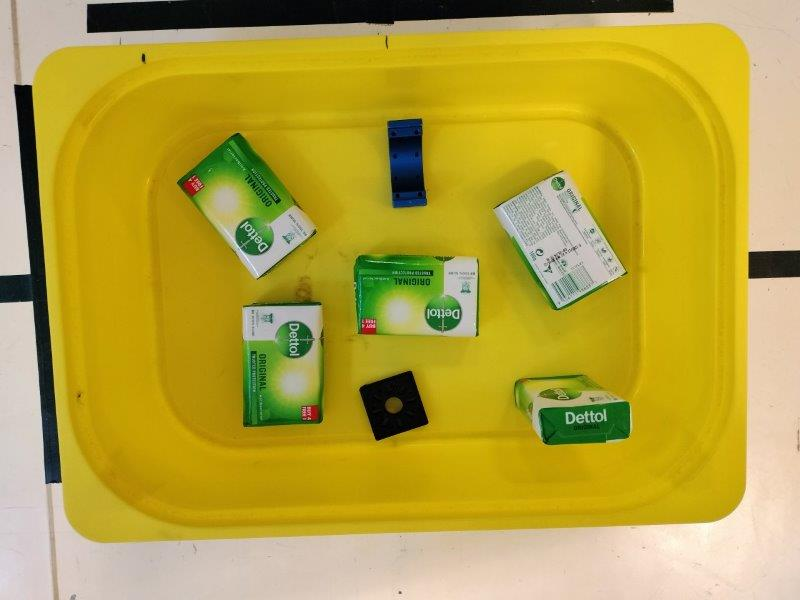Dettol: (178, 133, 318, 279), (496, 171, 628, 311), (353, 253, 481, 337), (243, 303, 322, 429), (513, 375, 632, 446)
